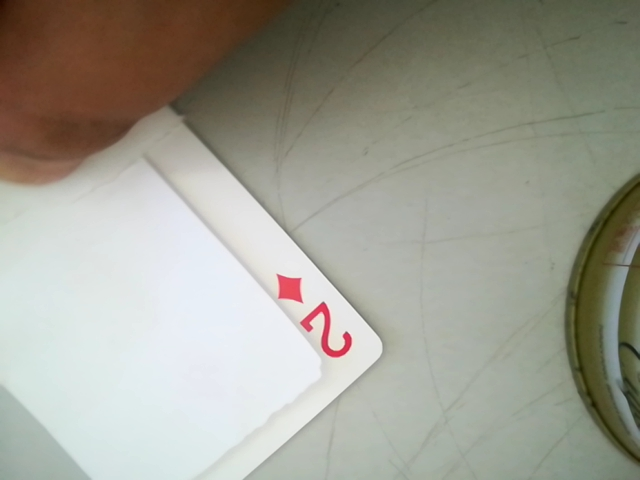fk 2: (268, 268, 363, 370)
